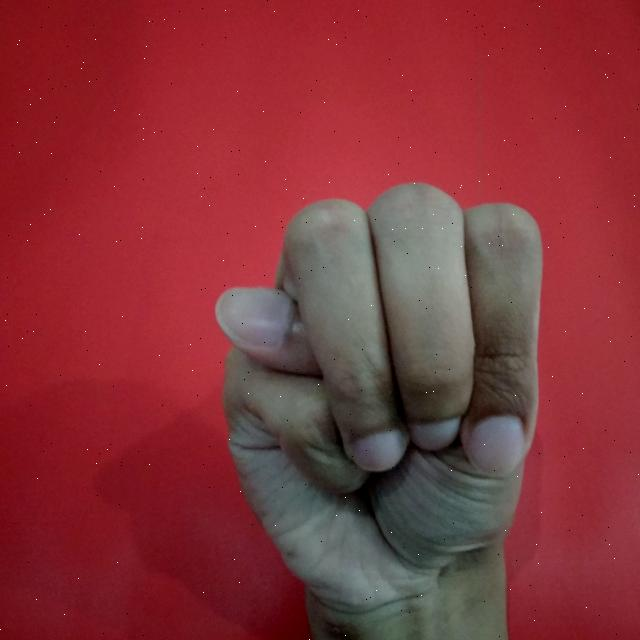M: (211, 171, 548, 640)
